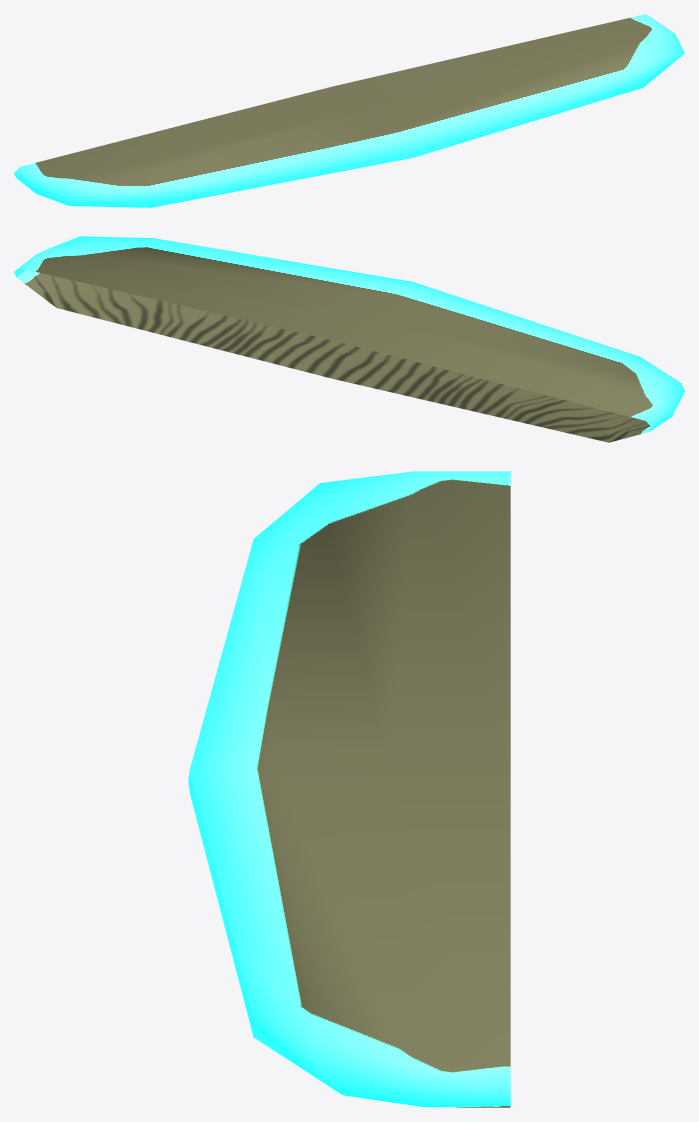
The model's file is PlatformMushroom.fbx.
The picture shows the model from 3 angles, top to bottom: view 1: azimuth 30°, elevation 25°; view 2: azimuth 150°, elevation 25°; view 3: azimuth 270°, elevation 25°; orthographic projection. The views are drawn at different scales.
Visible parts, largest first — view 1: PlatformMushroom; view 2: PlatformMushroom; view 3: PlatformMushroom.
Part boxes in pixels (left/top/right/bottom): PlatformMushroom: left=14, top=14, right=684, bottom=207; PlatformMushroom: left=14, top=236, right=684, bottom=442; PlatformMushroom: left=188, top=471, right=510, bottom=1107.
Bounding box in the file's own units: 1022 × 58.57 × 223.
